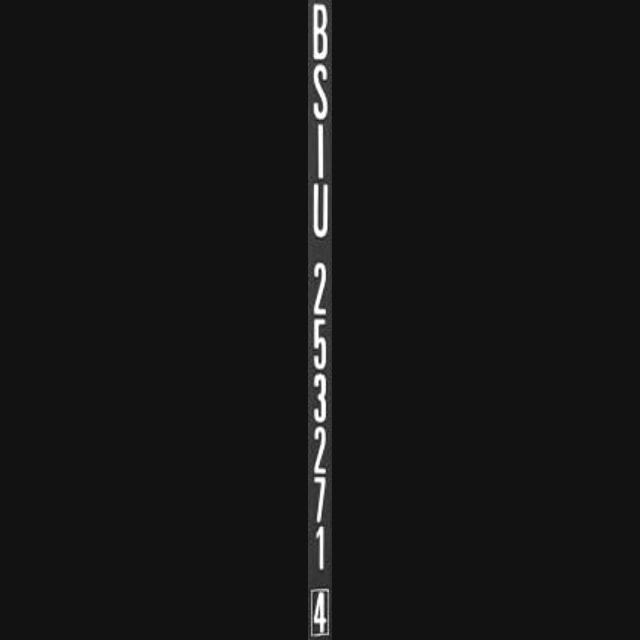1: (308, 522, 332, 576)
2: (308, 258, 332, 318), (308, 422, 332, 474)
3: (308, 372, 332, 424)
4: (308, 582, 332, 640)
5: (308, 315, 332, 371)
7: (308, 469, 332, 526)
b: (308, 0, 332, 66)
i: (308, 119, 332, 183)
s: (308, 58, 332, 126)
u: (308, 180, 332, 242)
